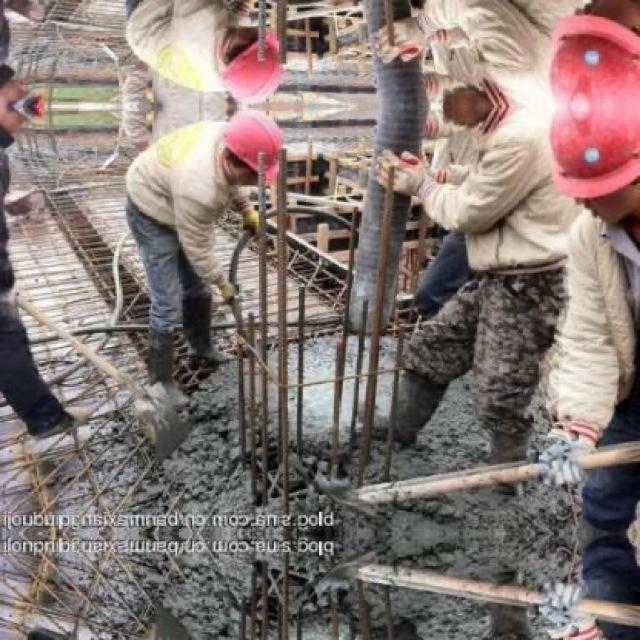helmet: (543, 108, 639, 227), (542, 0, 639, 106), (209, 15, 291, 104), (209, 111, 291, 199)
